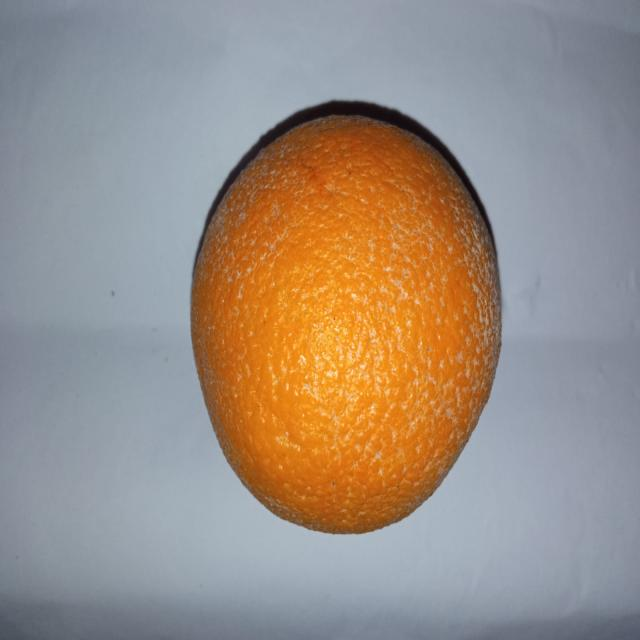fresh_orange: (190, 112, 500, 535)
